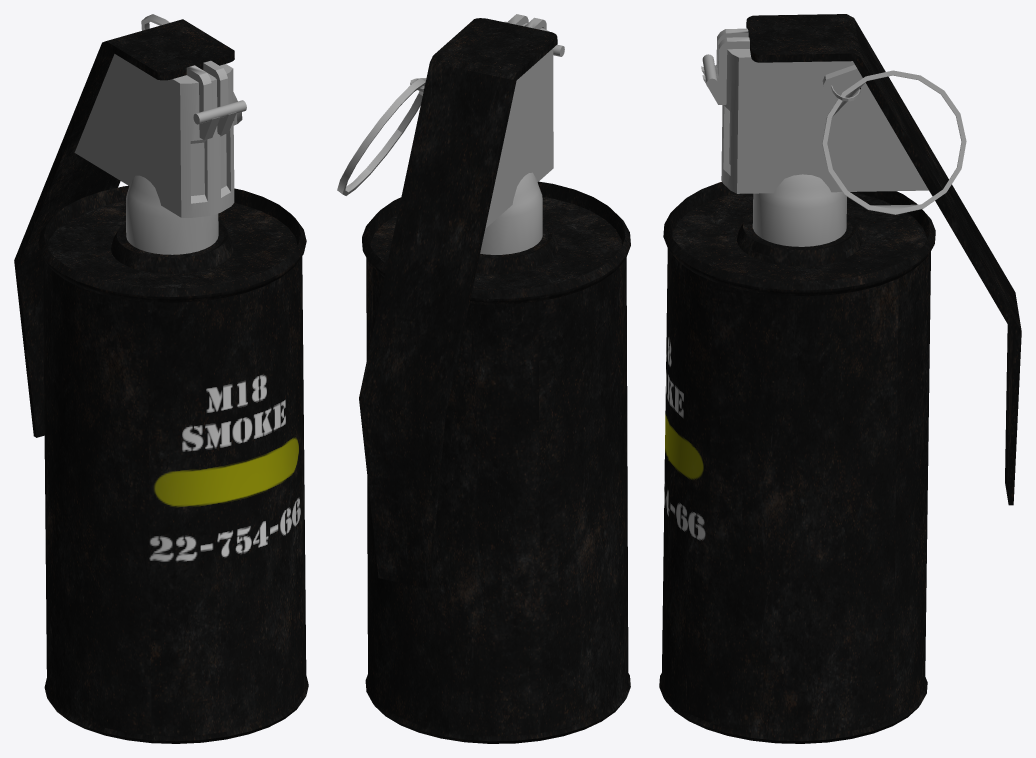
Rendered from granadaHumo.obj.
The picture shows the model from 3 angles, left to right: view 1: azimuth 30°, elevation 25°; view 2: azimuth 150°, elevation 25°; view 3: azimuth 270°, elevation 25°; orthographic projection.
Parts seen in each view (by area): view 1: Cylinder.003_Cylinder.000_main_mat.005, Cylinder.003_Cylinder.000_second_mat.005; view 2: Cylinder.003_Cylinder.000_main_mat.005, Cylinder.003_Cylinder.000_second_mat.005, Cylinder.003_Cylinder.000_third_mat.005; view 3: Cylinder.003_Cylinder.000_main_mat.005, Cylinder.003_Cylinder.000_second_mat.005, Cylinder.003_Cylinder.000_third_mat.005.
Part boxes in pixels (x1,y1,x2,y2): Cylinder.003_Cylinder.000_main_mat.005: (14, 19, 308, 743); Cylinder.003_Cylinder.000_second_mat.005: (74, 54, 246, 254); Cylinder.003_Cylinder.000_main_mat.005: (359, 18, 630, 743); Cylinder.003_Cylinder.000_second_mat.005: (480, 14, 564, 254); Cylinder.003_Cylinder.000_third_mat.005: (337, 78, 426, 195); Cylinder.003_Cylinder.000_main_mat.005: (659, 14, 1021, 743); Cylinder.003_Cylinder.000_second_mat.005: (701, 28, 928, 246); Cylinder.003_Cylinder.000_third_mat.005: (822, 64, 966, 214).
Bounding box in the file's own units: 29.97 × 79.59 × 39.9.
